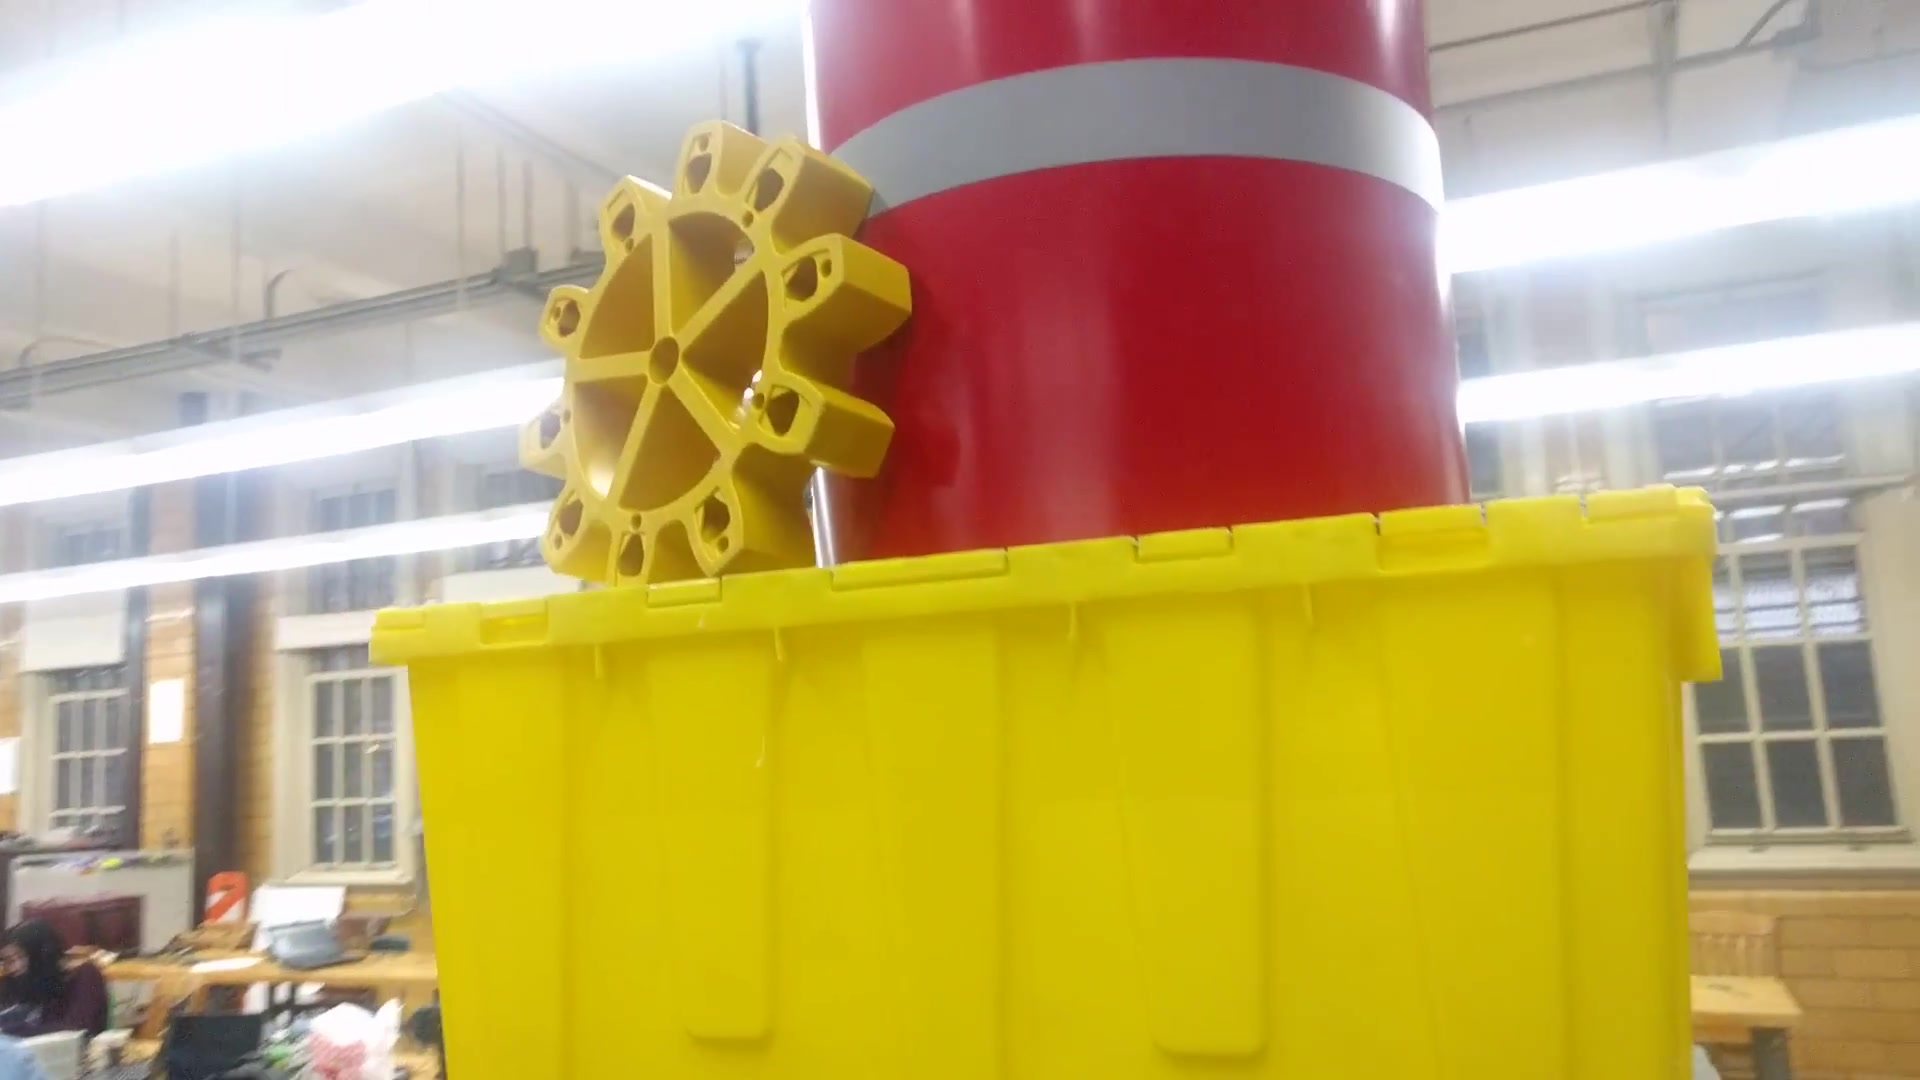gear: (501, 112, 911, 607)
